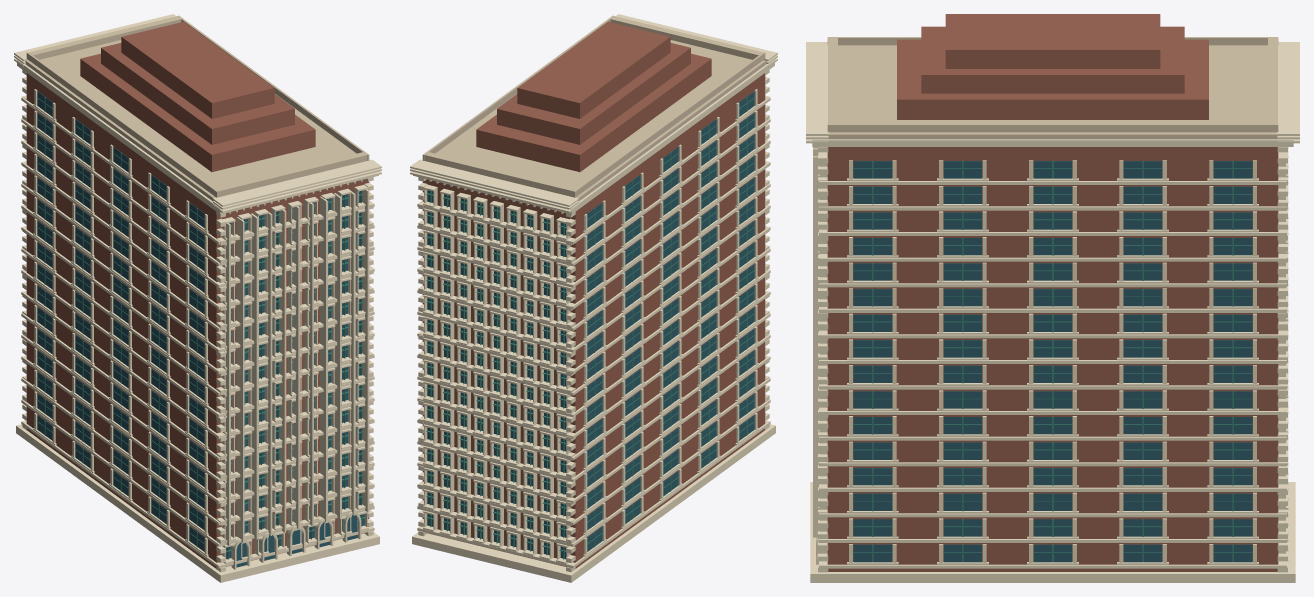
The model's file is broadway-mansions.glb.
The picture shows the model from 3 angles, left to right: view 1: azimuth 30°, elevation 25°; view 2: azimuth 150°, elevation 25°; view 3: azimuth 270°, elevation 25°; orthographic projection. The views are drawn at different scales.
Visible parts, largest first — view 1: broadway-mansions; view 2: broadway-mansions; view 3: broadway-mansions.
Boxes of the visible parts, x1,y1,x2,y2 form: broadway-mansions: (14, 14, 381, 582); broadway-mansions: (410, 14, 777, 582); broadway-mansions: (806, 14, 1299, 582).
Bounding box in the file's own units: 29.74 × 76 × 67.35.
